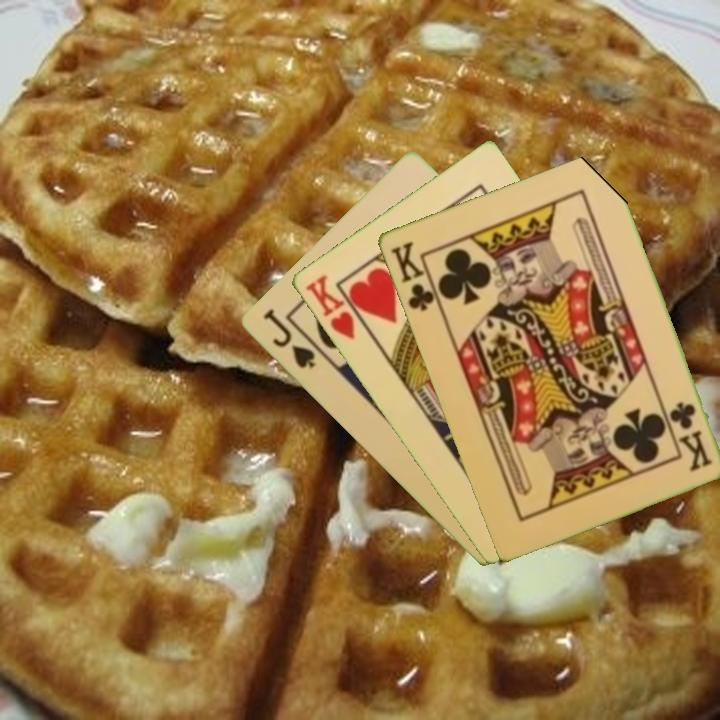Js: (259, 305, 318, 372)
Kc: (386, 238, 442, 314), (665, 397, 715, 474)
Kh: (301, 271, 371, 342)
